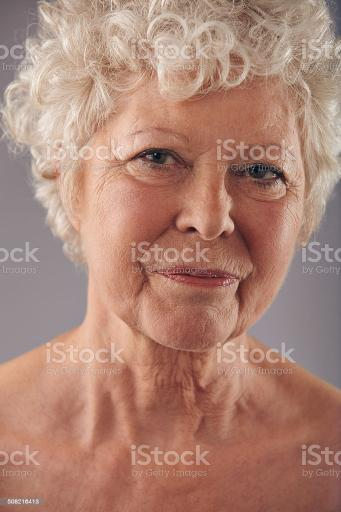left_eye: (240, 163, 287, 192)
left_lip_corner: (231, 271, 253, 291)
right_eye: (127, 143, 189, 171)
right_lip_corner: (148, 263, 172, 281)
